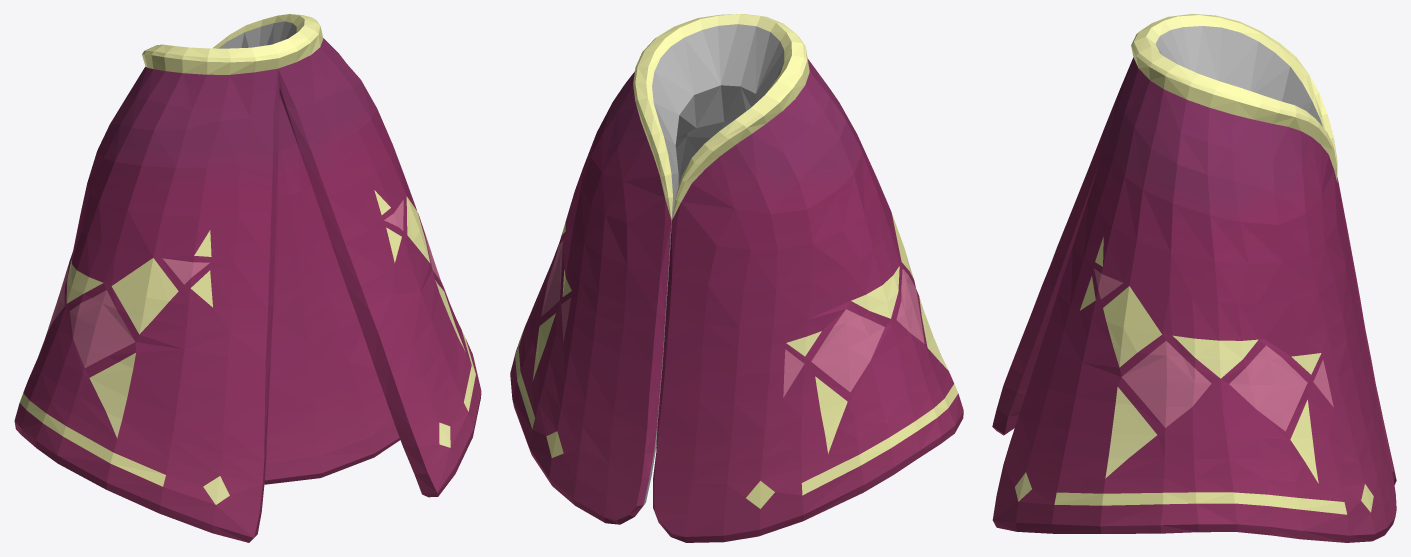
File: CharSkyKid_Wing_FortuneHorse.glb
The picture shows the model from 3 angles, left to right: view 1: azimuth 30°, elevation 25°; view 2: azimuth 150°, elevation 25°; view 3: azimuth 270°, elevation 25°; orthographic projection. The views are drawn at different scales.
Parts seen in each view (by area): view 1: CharSkyKid_Wing_FortuneHorse; view 2: CharSkyKid_Wing_FortuneHorse; view 3: CharSkyKid_Wing_FortuneHorse.
Boxes of the visible parts, left/top/right/bottom form: CharSkyKid_Wing_FortuneHorse: left=14, top=14, right=481, bottom=542; CharSkyKid_Wing_FortuneHorse: left=510, top=14, right=963, bottom=542; CharSkyKid_Wing_FortuneHorse: left=992, top=14, right=1396, bottom=542.
Size of the model in its own units: 6.27 by 6.31 by 4.96.
Materials: 1 (1 with a texture image).
